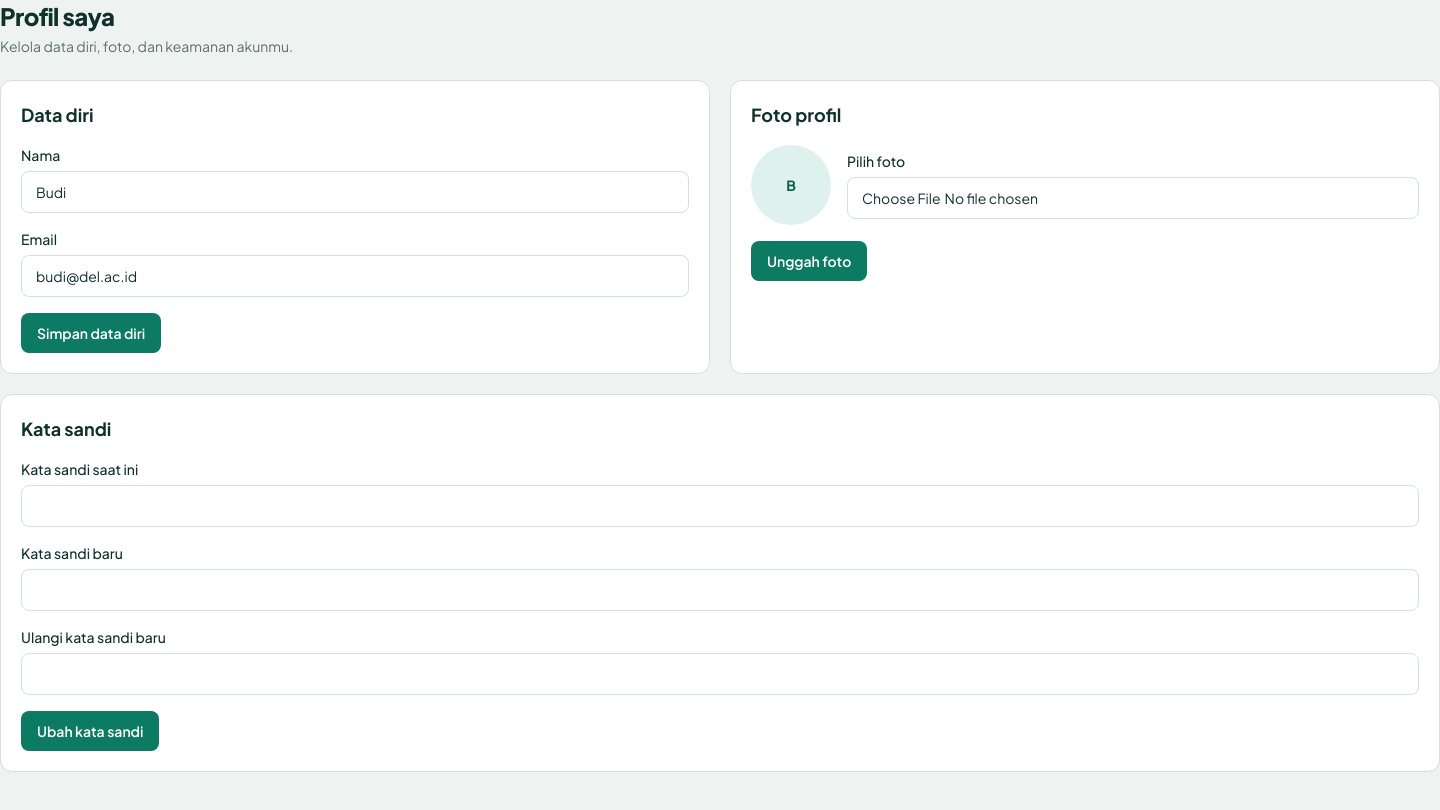
Scenario: ProfilePage › data diri › memvalidasi nama dan email
Clear the field labelled "Nama": (355, 192) [21,171,689,213]
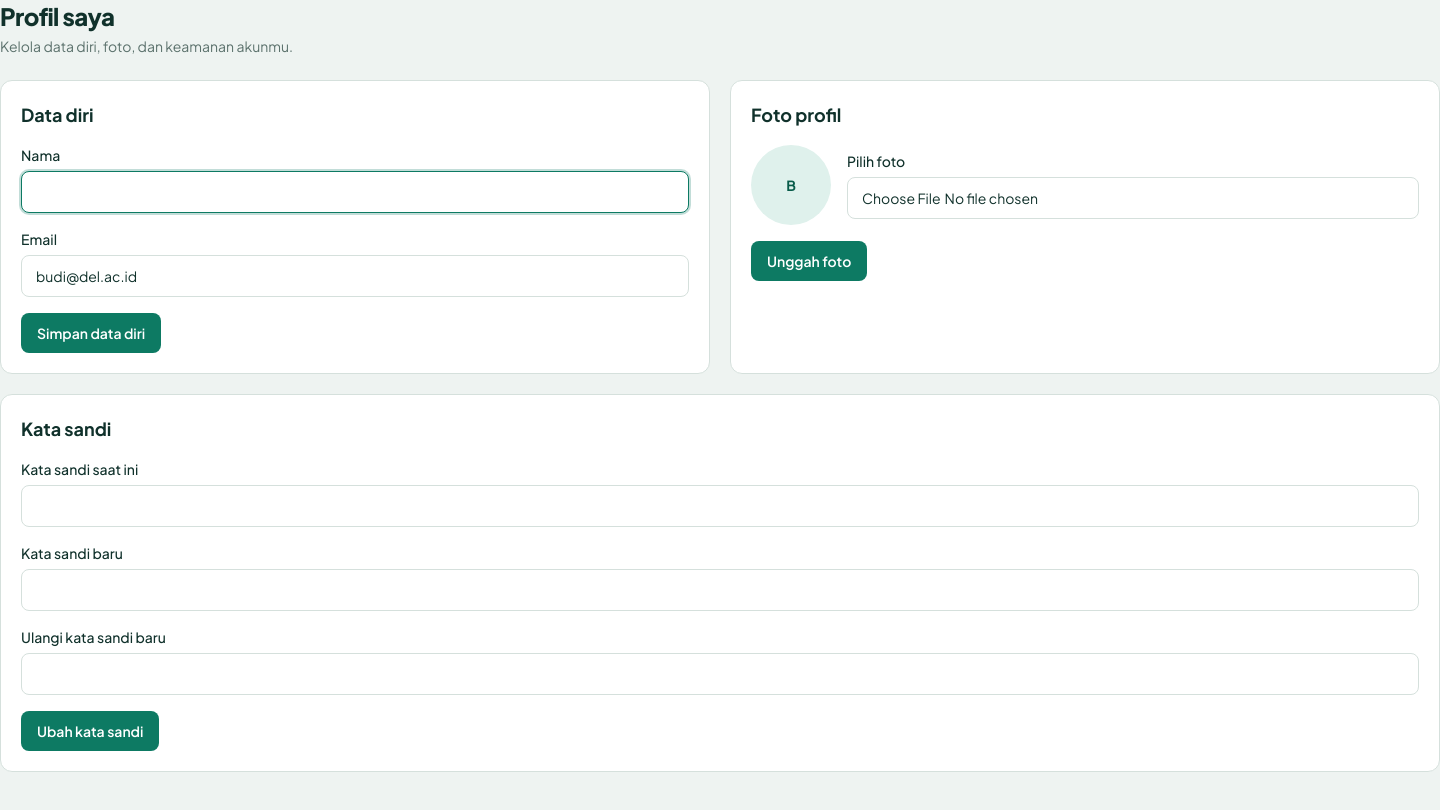
Clear the field labelled "Email": (355, 276) [21,255,689,297]
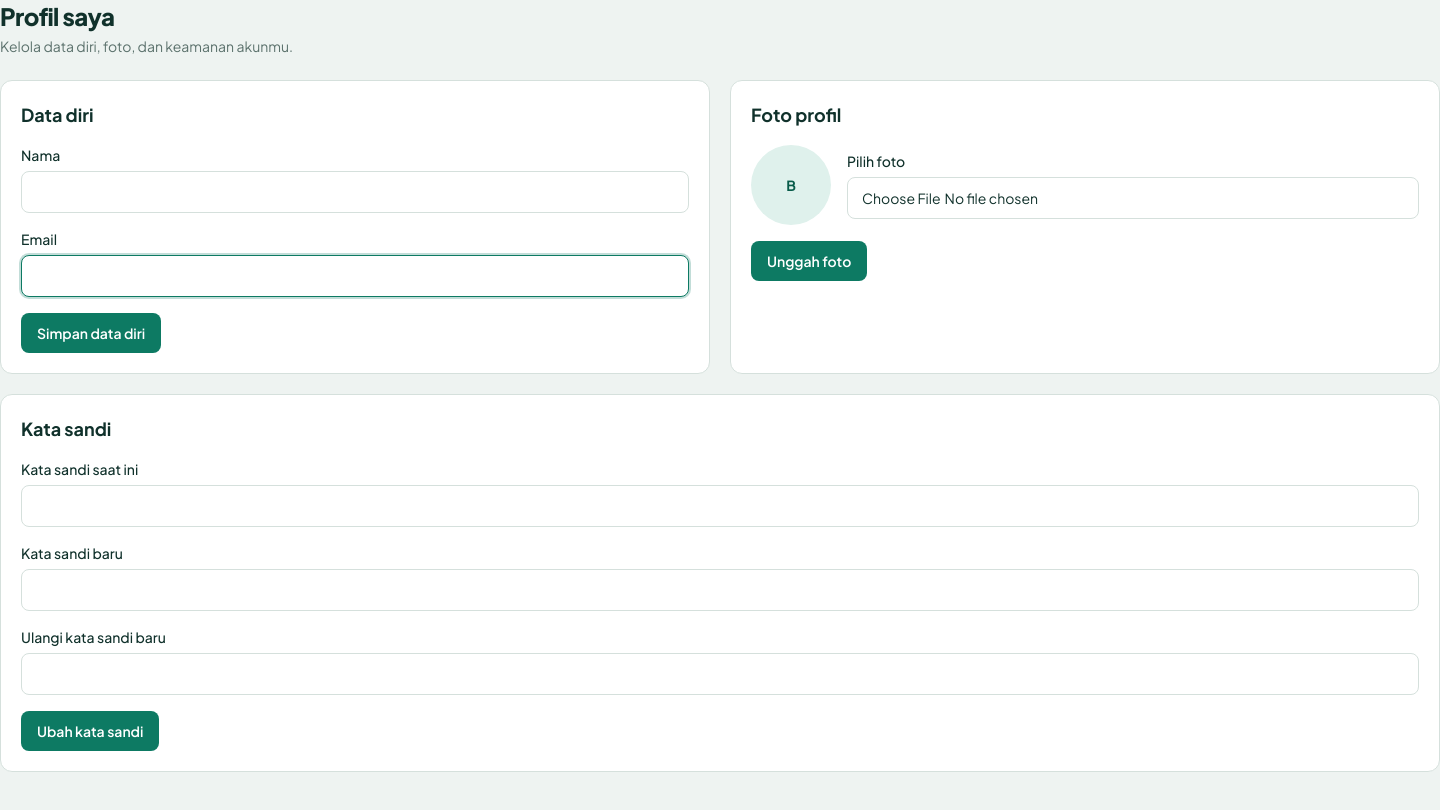
Click the button "Simpan data diri": (91, 333) [21,313,161,353]
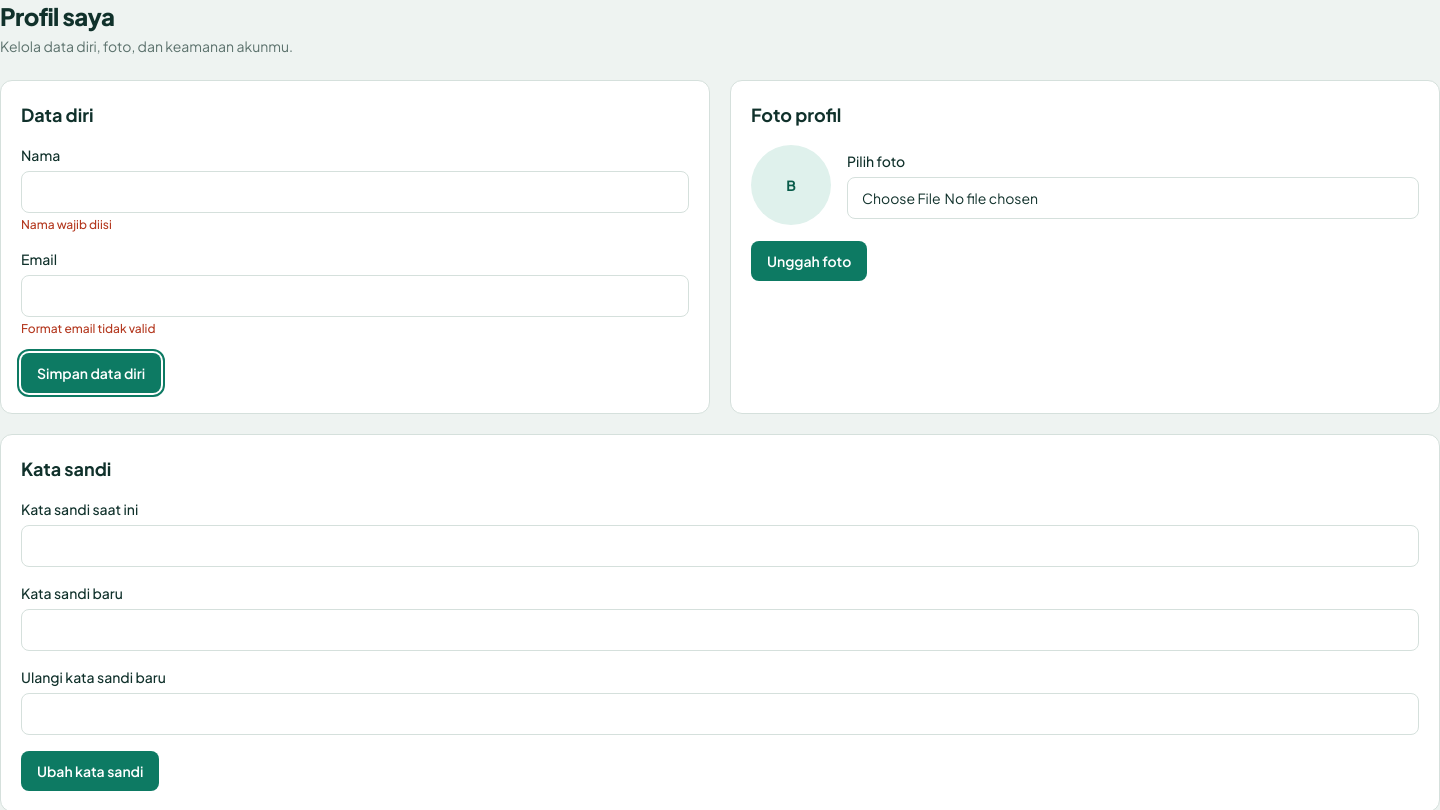
Result: the text "Nama wajib diisi" is shown at [21,217,112,232]
Result: the text "Format email tidak valid" is shown at [21,321,156,336]
